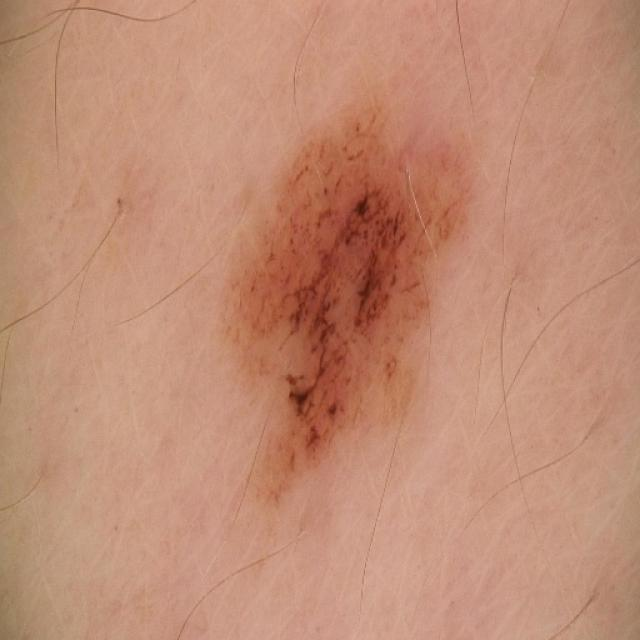Melanoma: (220, 124, 426, 561)
